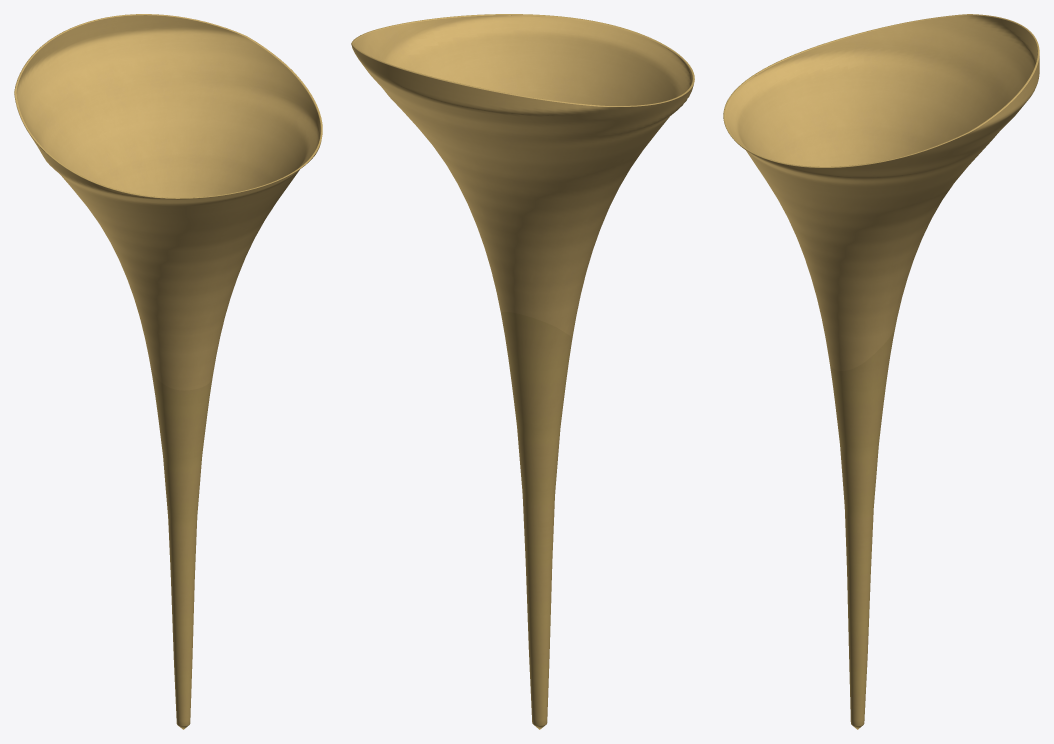
Rendered from modern-brass-wall-sconce-sculptural-trumpet-flared-light_b9328d4e-85f0-4959-a1c1-14ca696bf01c.glb.
3 views of the same model, side by side, from view 1: azimuth 30°, elevation 25°; view 2: azimuth 150°, elevation 25°; view 3: azimuth 270°, elevation 25° (orthographic). The views are drawn at different scales.
Visible parts, largest first — view 1: Calla_Shell; view 2: Calla_Shell; view 3: Calla_Shell.
Boxes of the visible parts, box(x1,y1,x2,y2) form: Calla_Shell: box(14, 14, 322, 729); Calla_Shell: box(351, 14, 694, 729); Calla_Shell: box(723, 14, 1039, 729).
Bounding box in the file's own units: 0.1699 × 0.3988 × 0.1687.
Materials: 2 (2 with a texture image).
